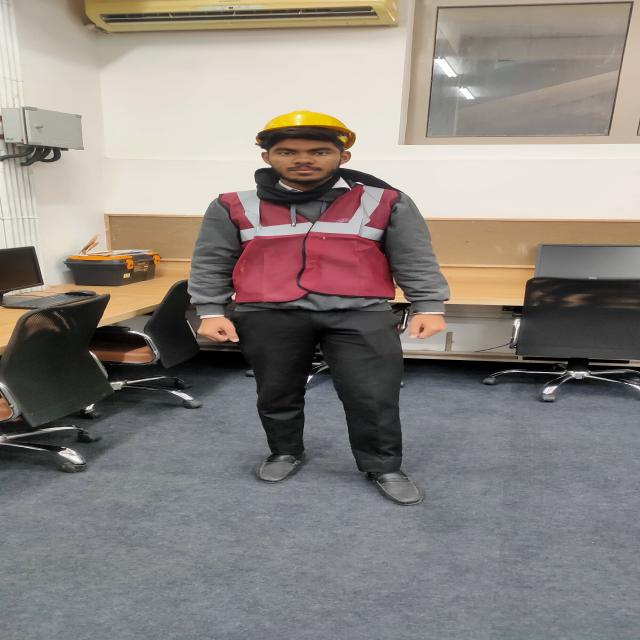safe: (194, 99, 447, 513)
